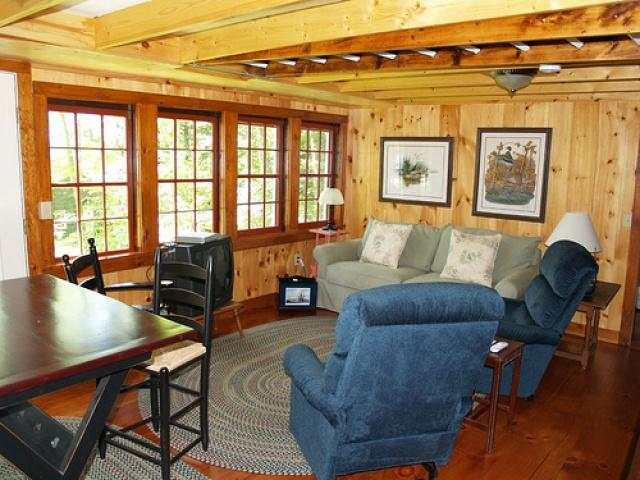Kursi: (96, 248, 214, 478)
Meja: (0, 270, 192, 427)
